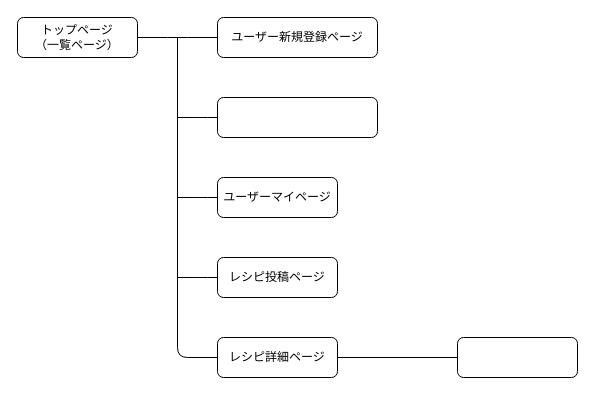
The diagram is 595 pixels wide and 395 high, and some of its shapes have lost their labels. Each missing label, with the centre of its shape:
"ユーザーログインページ" belongs at point (297, 117).
"レシピ編集ページ" belongs at point (517, 357).
